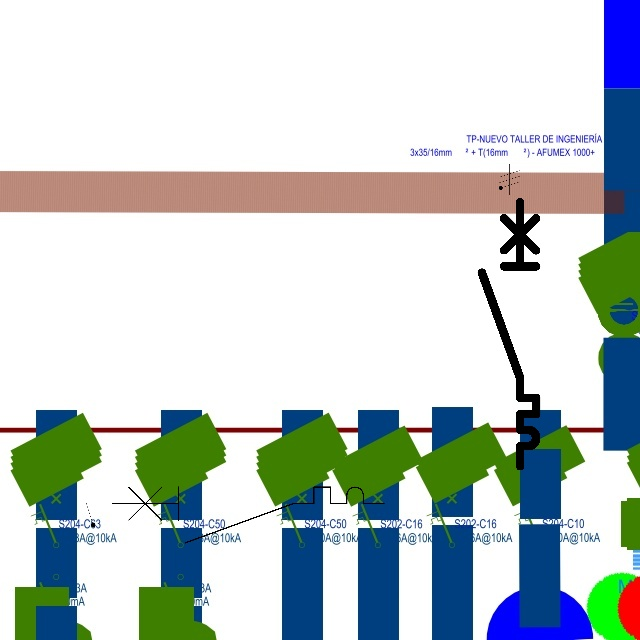interruptor_termomagnetico: (105, 480, 390, 550), (475, 195, 543, 473)
